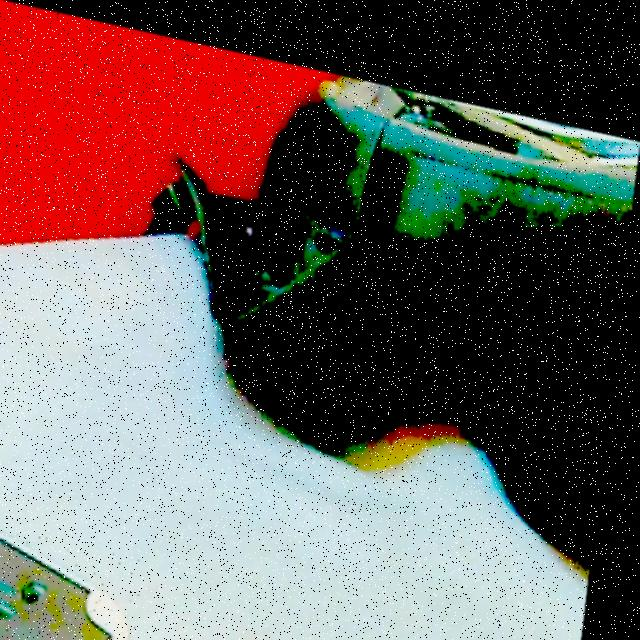adapter: (0, 514, 158, 640)
